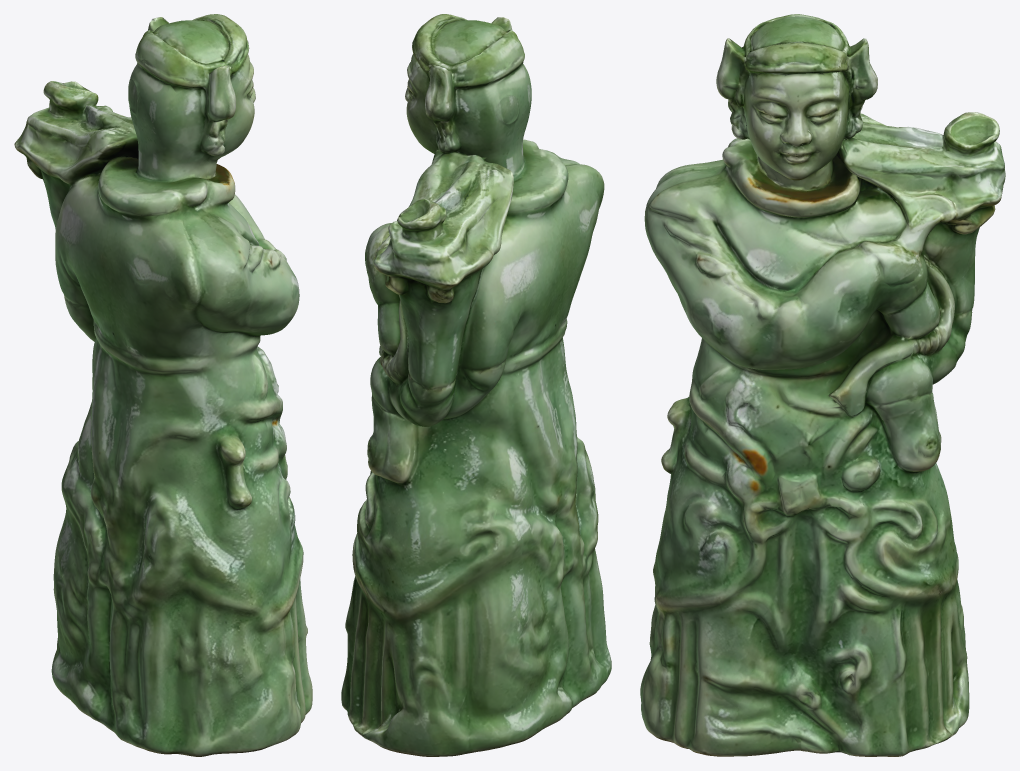
File: longquan-figure-web-desktop.glb
3 renders of one model, left to right at view 1: azimuth 30°, elevation 25°; view 2: azimuth 150°, elevation 25°; view 3: azimuth 270°, elevation 25°, orthographic. The views are drawn at different scales.
Visible parts, largest first — view 1: tripo_node_10291925-597c-4ab6-91cc-984cd73bce15; view 2: tripo_node_10291925-597c-4ab6-91cc-984cd73bce15; view 3: tripo_node_10291925-597c-4ab6-91cc-984cd73bce15.
Boxes of the visible parts, <box> form: tripo_node_10291925-597c-4ab6-91cc-984cd73bce15: <box>14,14,312,756</box>; tripo_node_10291925-597c-4ab6-91cc-984cd73bce15: <box>341,14,611,756</box>; tripo_node_10291925-597c-4ab6-91cc-984cd73bce15: <box>640,14,1005,756</box>.
Size of the model in its own units: 0.2875 by 0.9794 by 0.4645.
Materials: 1 (1 with a texture image).
